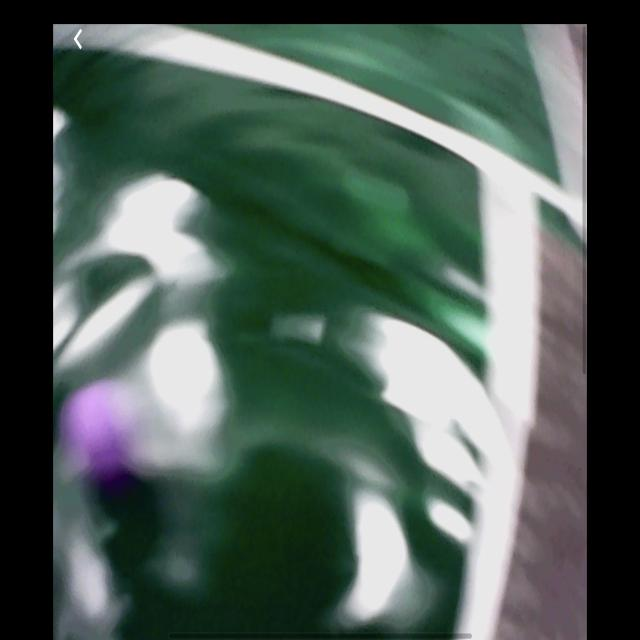ball: (58, 378, 148, 488)
